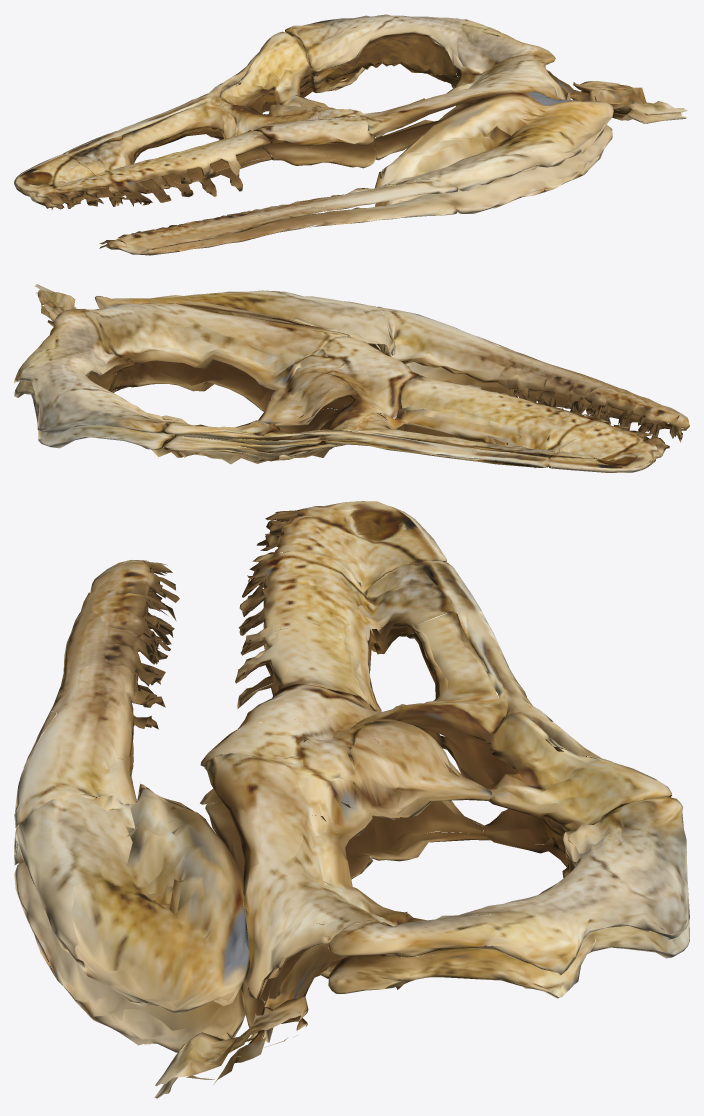
File: b17_tripo_skull.glb
3 views of the same model, one above another, from view 1: azimuth 30°, elevation 25°; view 2: azimuth 150°, elevation 25°; view 3: azimuth 270°, elevation 25° (orthographic). The views are drawn at different scales.
Parts seen in each view (by area): view 1: B17_Tripo_Skull; view 2: B17_Tripo_Skull; view 3: B17_Tripo_Skull.
Part boxes in pixels (x1,y1,x2,y2): B17_Tripo_Skull: (14,14,687,255); B17_Tripo_Skull: (14,284,689,472); B17_Tripo_Skull: (14,501,689,1098).
Bounding box in the file's own units: 0.1688 × 0.0172 × 0.0904.
Materials: 1 (1 with a texture image).
